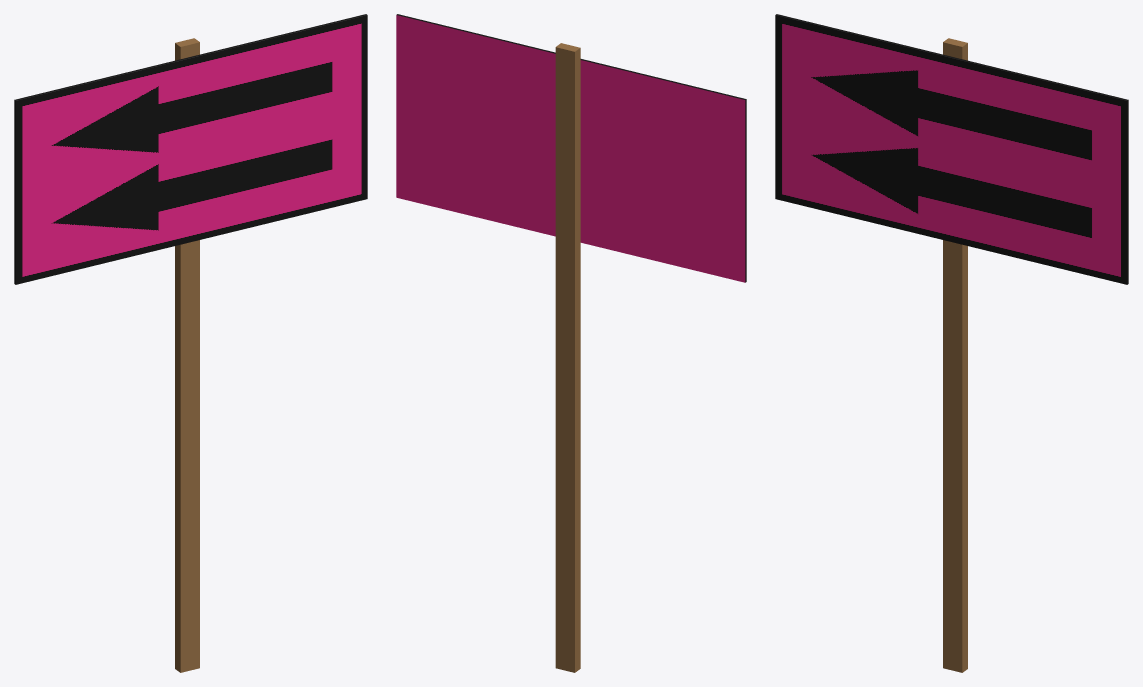
File: arrow3_l.dae
3 views of the same model, side by side, from view 1: azimuth 30°, elevation 25°; view 2: azimuth 150°, elevation 25°; view 3: azimuth 330°, elevation 25° (orthographic).
Parts seen in each view (by area): view 1: marker; view 2: marker; view 3: marker.
Boxes of the visible parts, left/top/right/bottom form: marker: left=14, top=14, right=367, bottom=672; marker: left=396, top=14, right=746, bottom=672; marker: left=775, top=14, right=1128, bottom=672.
Size of the model in its own units: 0.9 by 0.031 by 1.53.
Materials: 1 (1 with a texture image).
